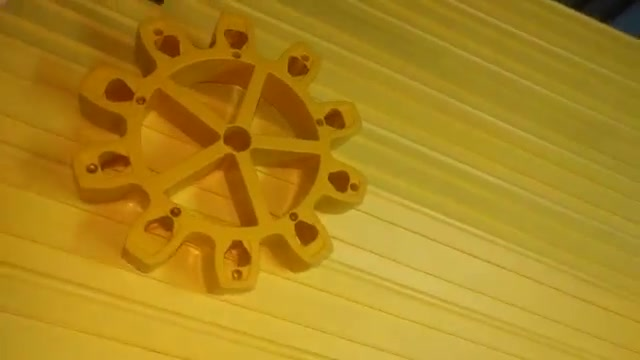gear: (64, 5, 384, 301)
